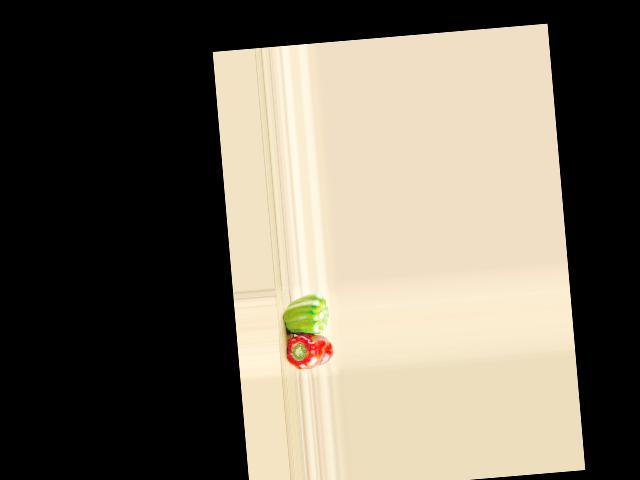bell_pepper: (285, 330, 334, 371)
